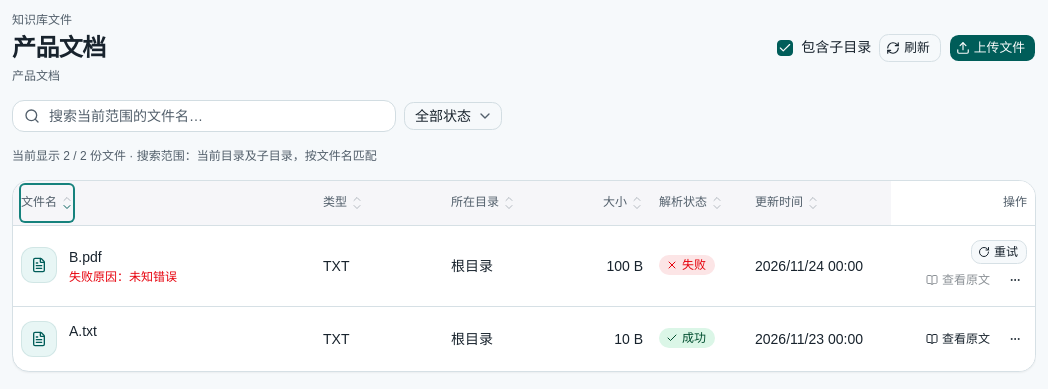
Test case: 文件浏览 › combines filename search and status filtering, clears empty results and sorts files
Earlier steps of the test are not shown.
Later steps or results of the test are not shown.
Click the button with aria-label "按更新时间排序".
click(787, 203)  # box [755,185,819,221]
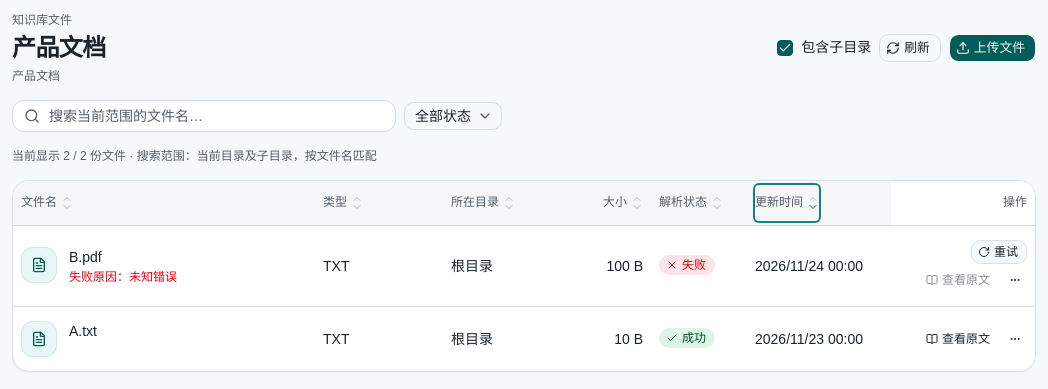
Click the button with aria-label "按更新时间排序".
click(787, 203)  # box [755,185,819,221]
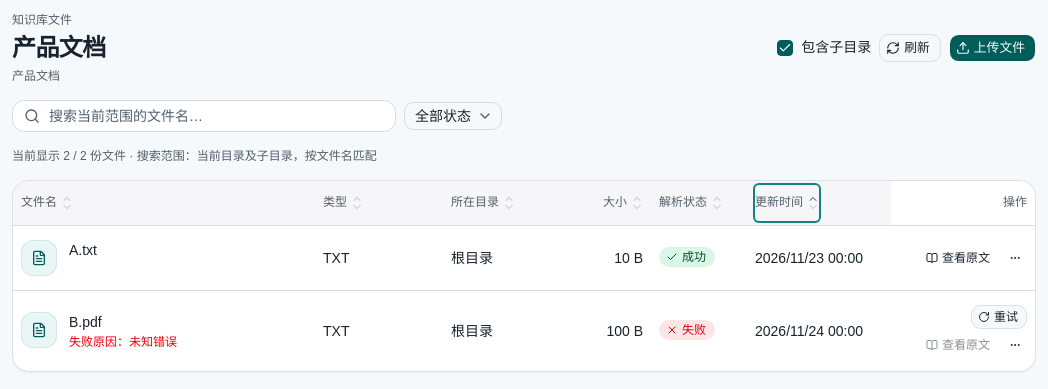
Click the button with aria-label "按大小排序".
click(623, 203)  # box [603,185,643,221]
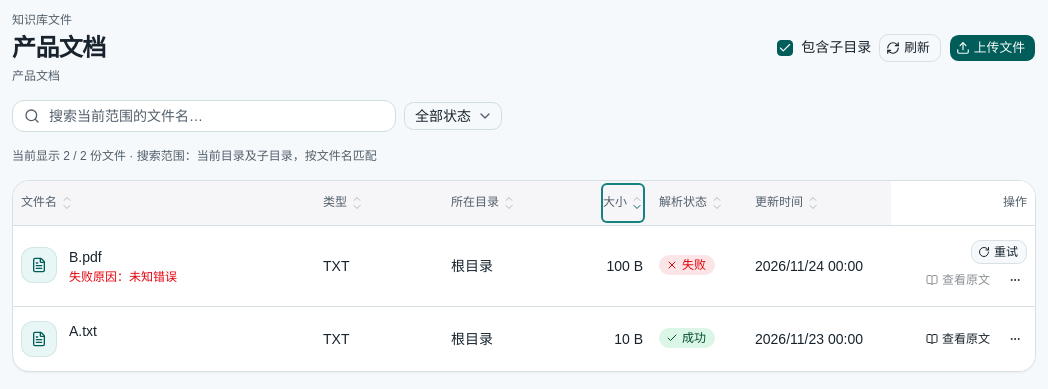
Type "a.TXT" into the field named "搜索当前范围文件名".
click(204, 116); type("a.TXT")  # box [12,100,396,132]
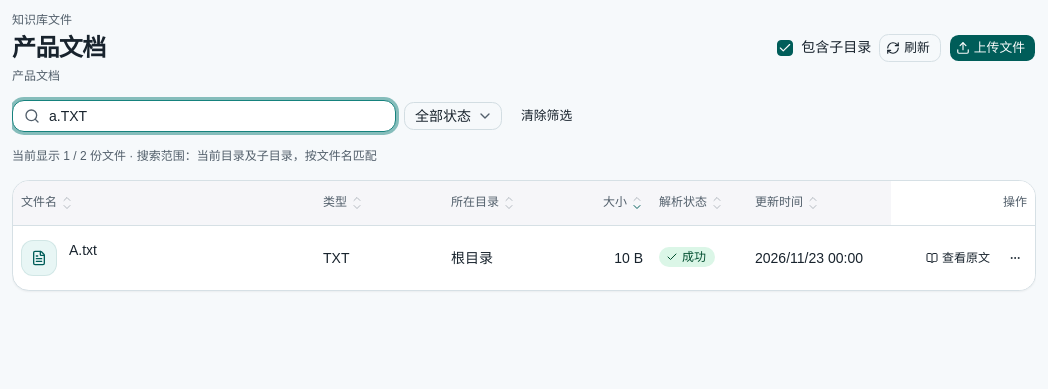
Now the text "当前显示 1 / 2" is shown, box [12,149,126,163]
Click the dropdown named "筛选解析状态".
click(453, 116)  # box [404,102,502,130]
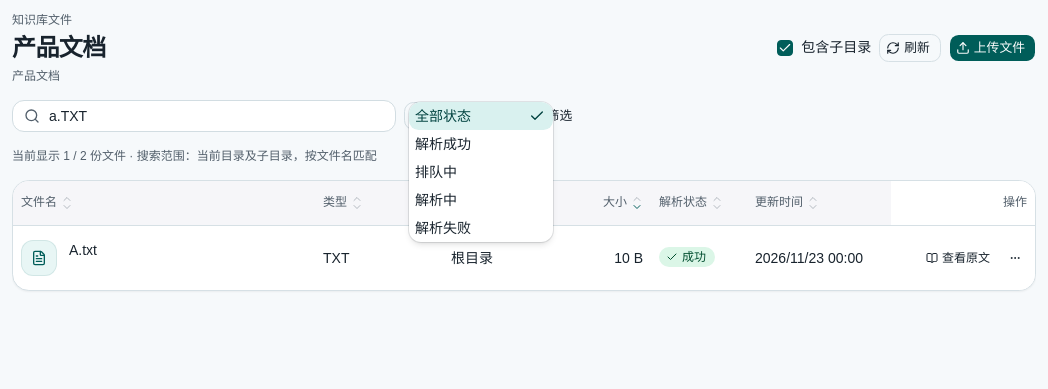
Click the option "解析失败".
click(443, 228)  # box [415,220,471,236]
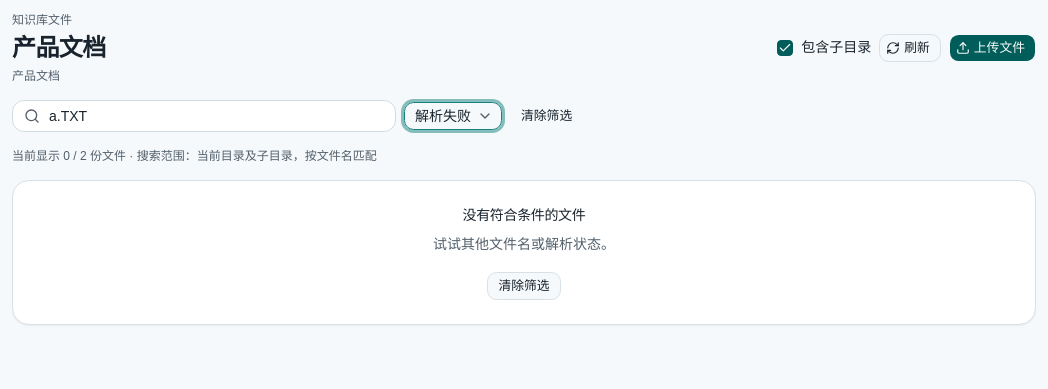
Now the text "没有符合条件的文件" is shown, box [463,205,586,225]
